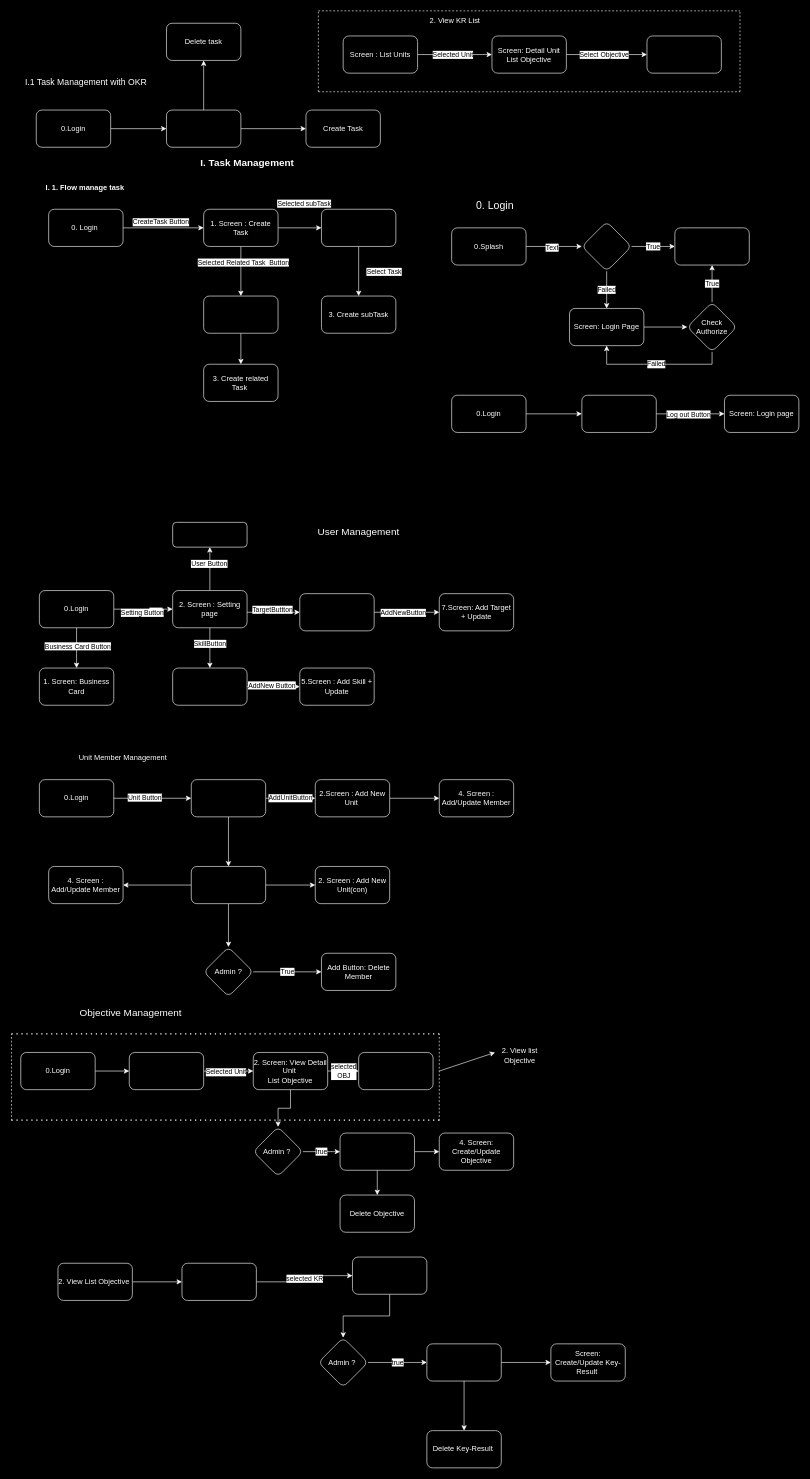
Some shapes in this 810 by 1479 pixel diagram are drawn without their labels. The box of each missing label's shape, as (x1, y1, x2, y2) in pixels:
1. Screen : List Units: (191, 779, 266, 817)
1. Screen: List Units: (129, 1052, 204, 1090)
2. KR list: (166, 109, 241, 147)
2. LIst Related task ask: (203, 295, 278, 333)
2. List Task (cha): (321, 209, 396, 246)
3. Screen: User Profile: (172, 522, 247, 547)
3. Screen: View Detail Objective: (358, 1052, 433, 1090)
3. Screen: View Detail Unit List Member: (191, 866, 266, 904)
4.Screen: List Skill: (172, 667, 247, 705)
6. Screen: List Target: (299, 593, 374, 631)
Add button: Create/Update + Delete Key-Result: (426, 1343, 501, 1381)
Add Button: Create/Update+ Delete Objective: (339, 1132, 414, 1170)
Check Token Vailable: (581, 221, 631, 271)
Screen: Detail KR List tasks: (352, 1256, 427, 1294)
Screen: Detail Objective List Key- Result: (181, 1263, 256, 1300)
Screen: Detail Objective List Tasks: (646, 35, 721, 73)
Screen: Home: (674, 227, 749, 265)
Screen: Setting page: (581, 395, 656, 432)
